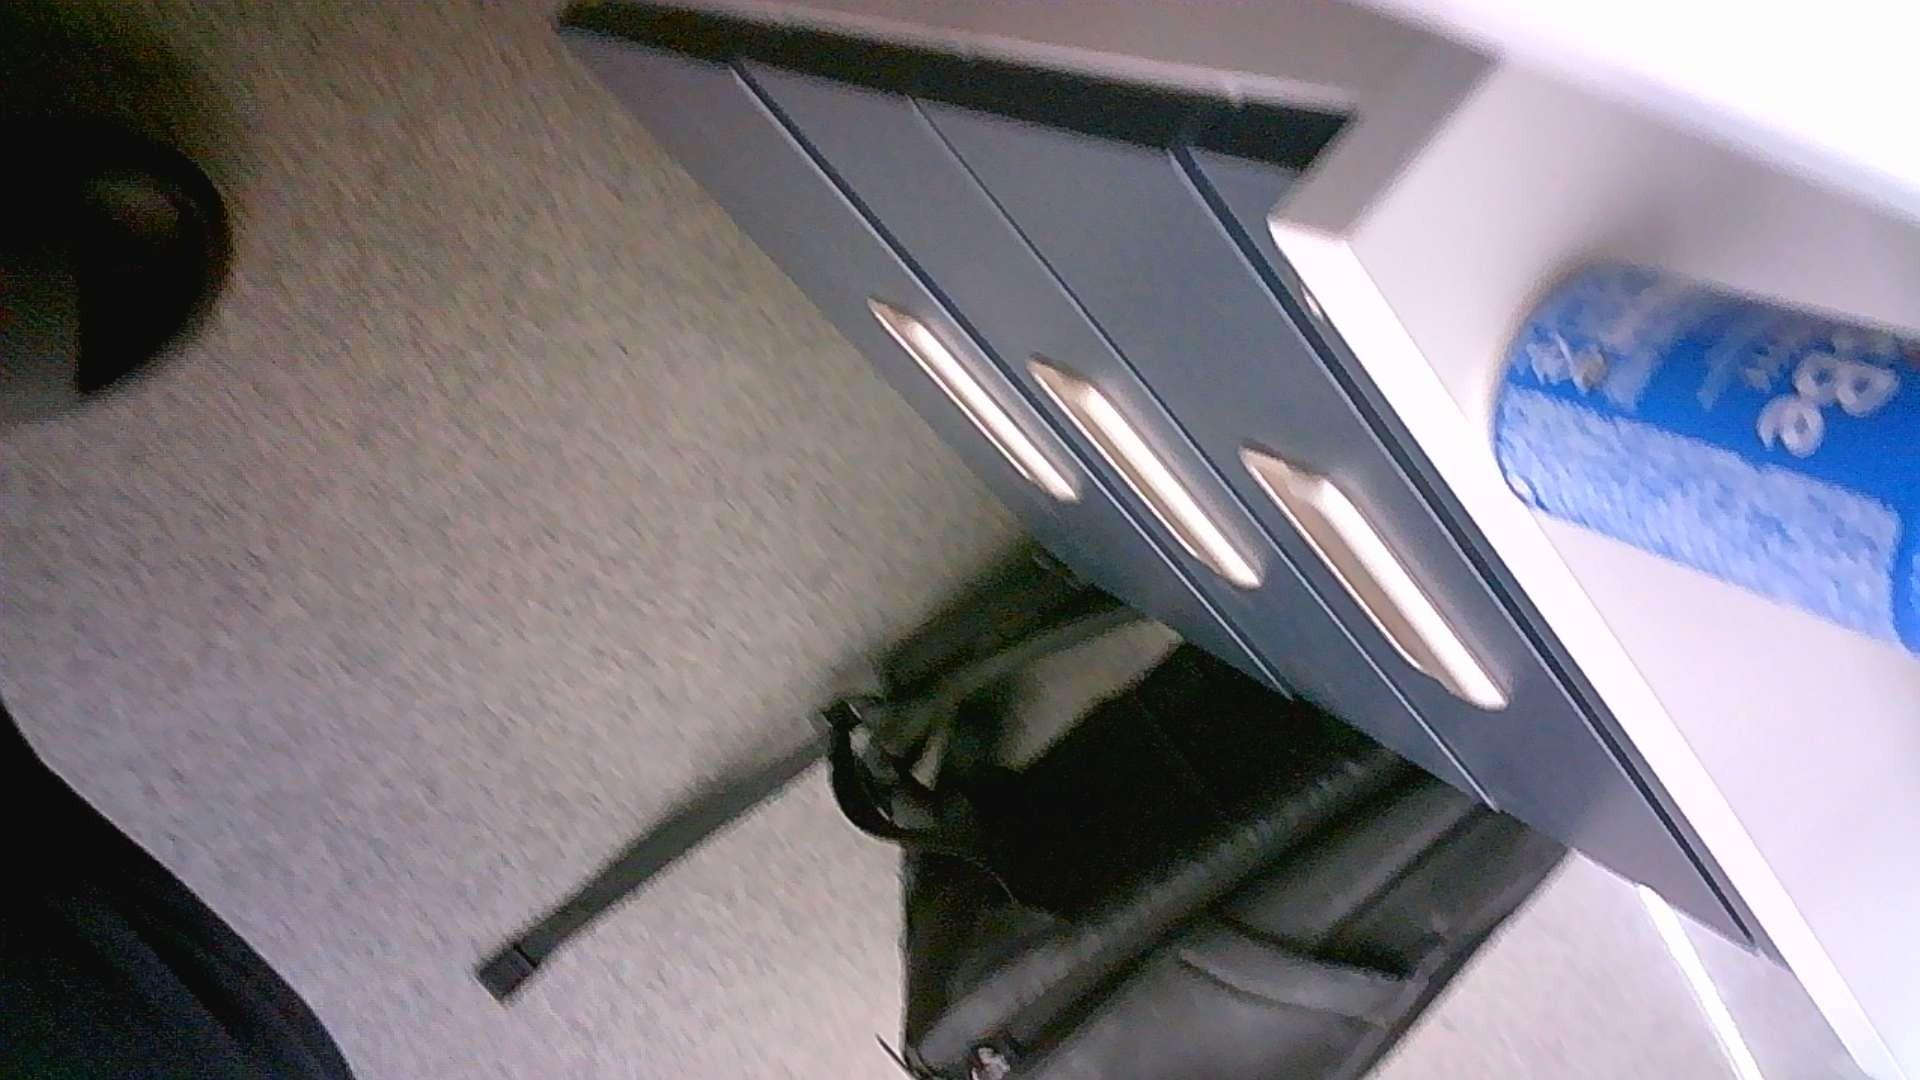letsbe: (1486, 256, 1920, 658)
